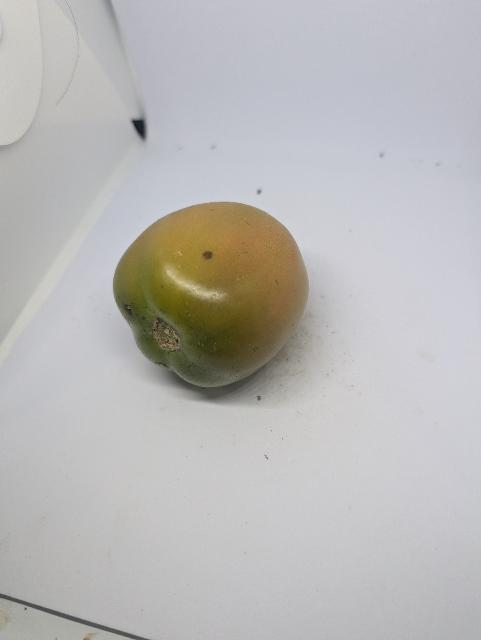breaker: (109, 198, 310, 394)
